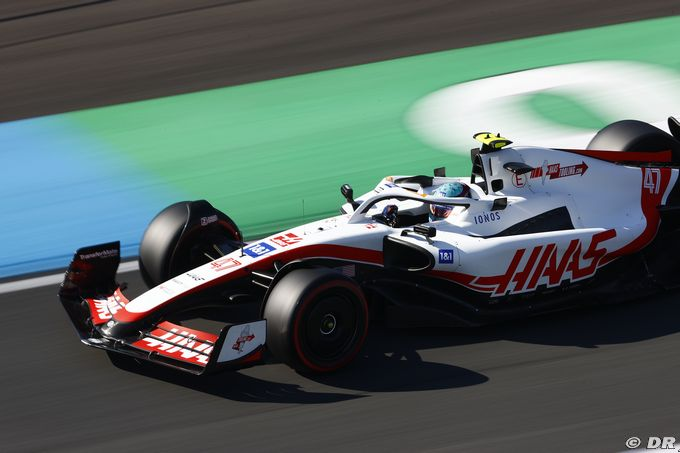Formule 1: (61, 119, 680, 377)
